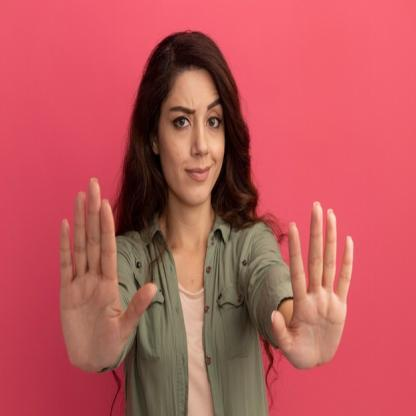stop: (54, 174, 160, 376), (268, 197, 362, 374)
